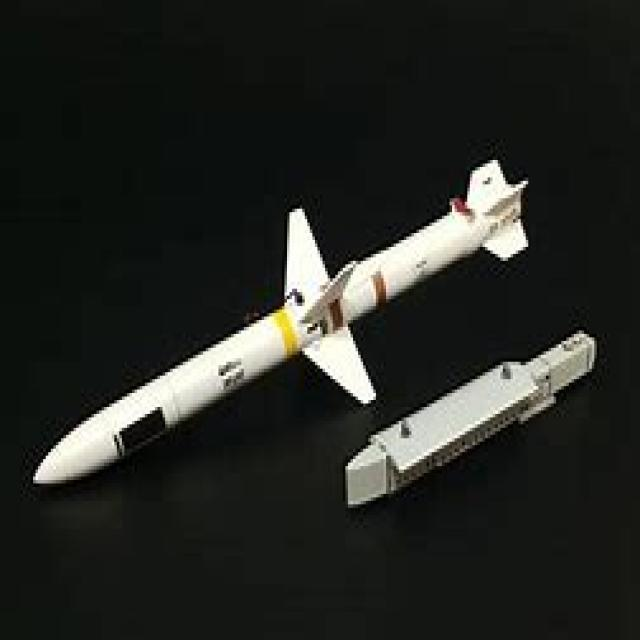missile: (30, 159, 527, 494)
